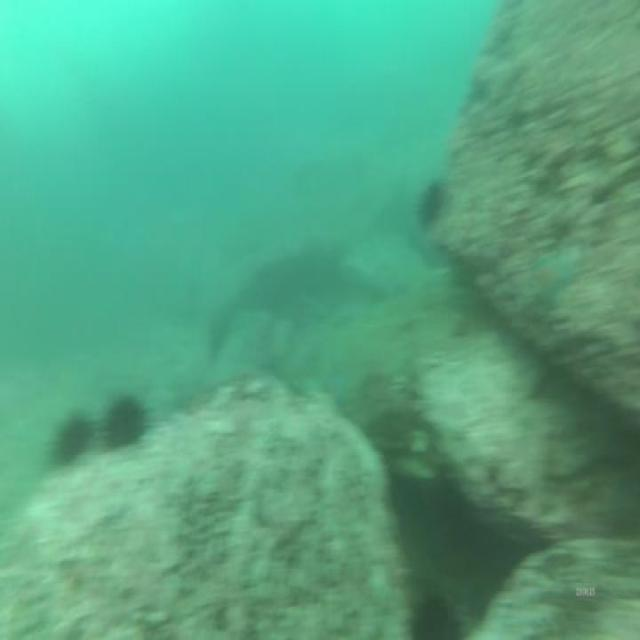echinus: (406, 583, 468, 640), (102, 390, 143, 452), (415, 172, 448, 232), (57, 409, 90, 463)
